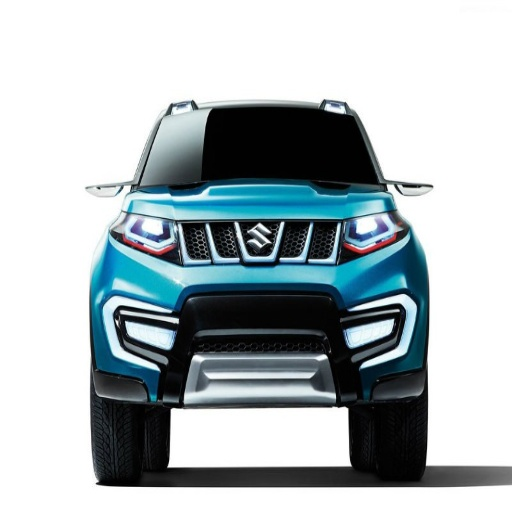front_bumper: (90, 220, 426, 407)
front_right_light: (110, 214, 177, 259)
hood: (129, 178, 390, 219)
